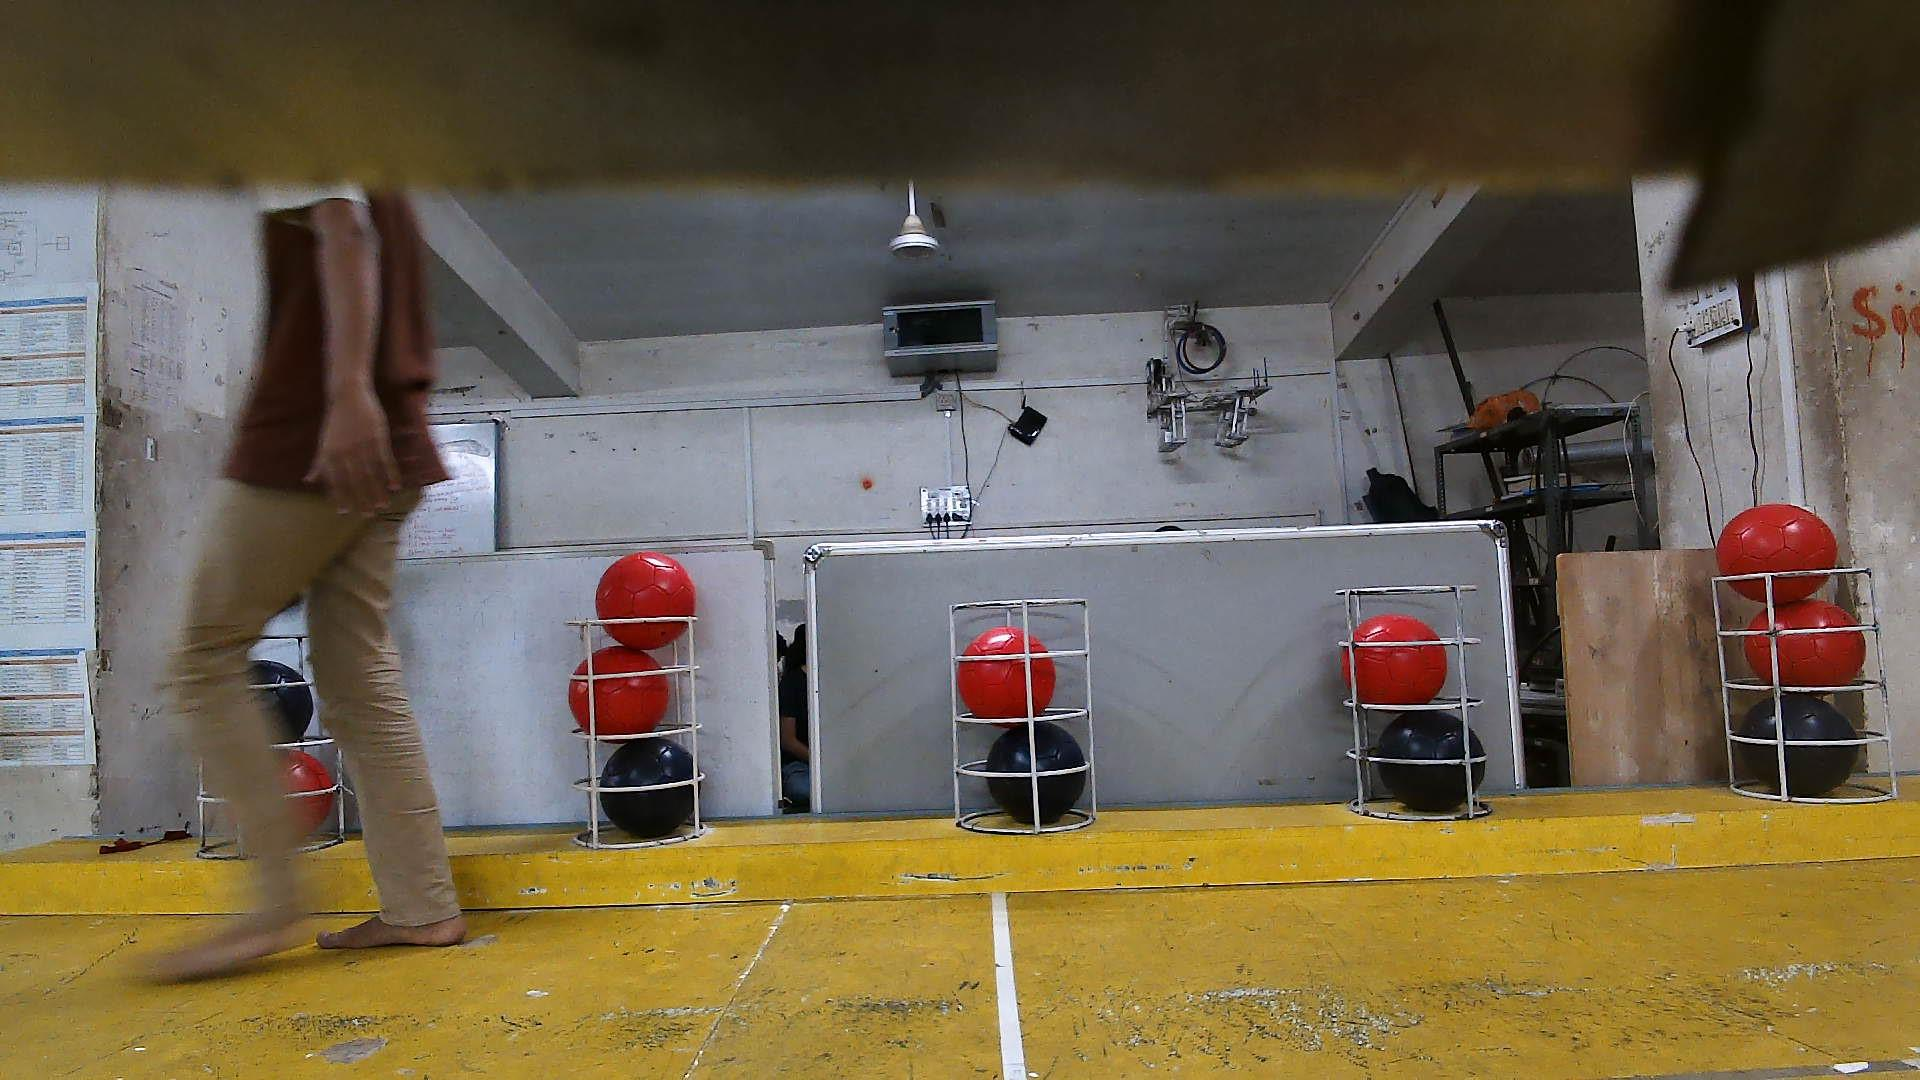dhoka: (1737, 694, 1859, 799), (1373, 708, 1485, 814), (986, 720, 1088, 825), (600, 738, 694, 840)
laale: (1717, 502, 1837, 604), (1743, 600, 1867, 686), (596, 551, 698, 649), (1342, 615, 1448, 705), (956, 626, 1058, 720), (570, 645, 667, 735)
